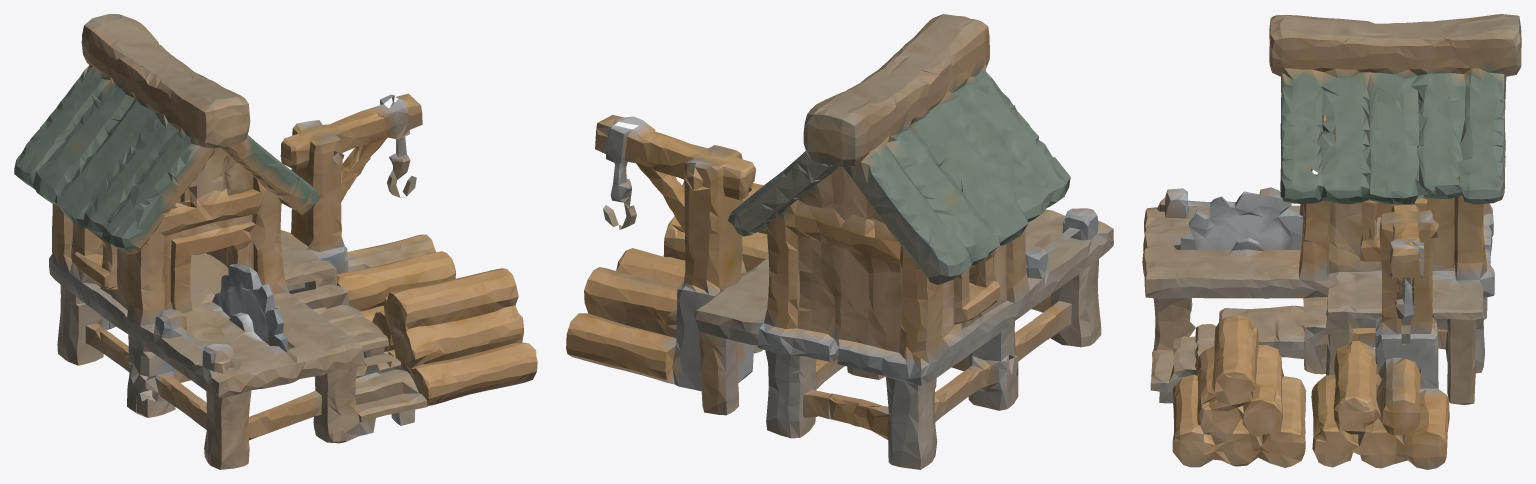
Rendered from building_lumber_mill_lod1.glb.
The picture shows the model from 3 angles, left to right: view 1: azimuth 30°, elevation 25°; view 2: azimuth 150°, elevation 25°; view 3: azimuth 270°, elevation 25°; orthographic projection. The views are drawn at different scales.
Visible parts, largest first — view 1: world; view 2: world; view 3: world.
Part boxes in pixels (box(x1,y1,x2,y2)): world: box(14, 14, 537, 469); world: box(566, 14, 1113, 469); world: box(1142, 14, 1521, 469).
Bounding box in the file's own units: 1.9 × 1.52 × 1.64.
